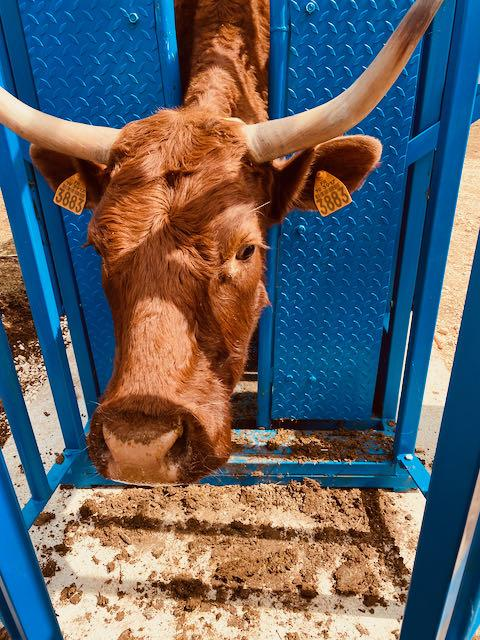muzzles: (80, 410, 226, 492)
